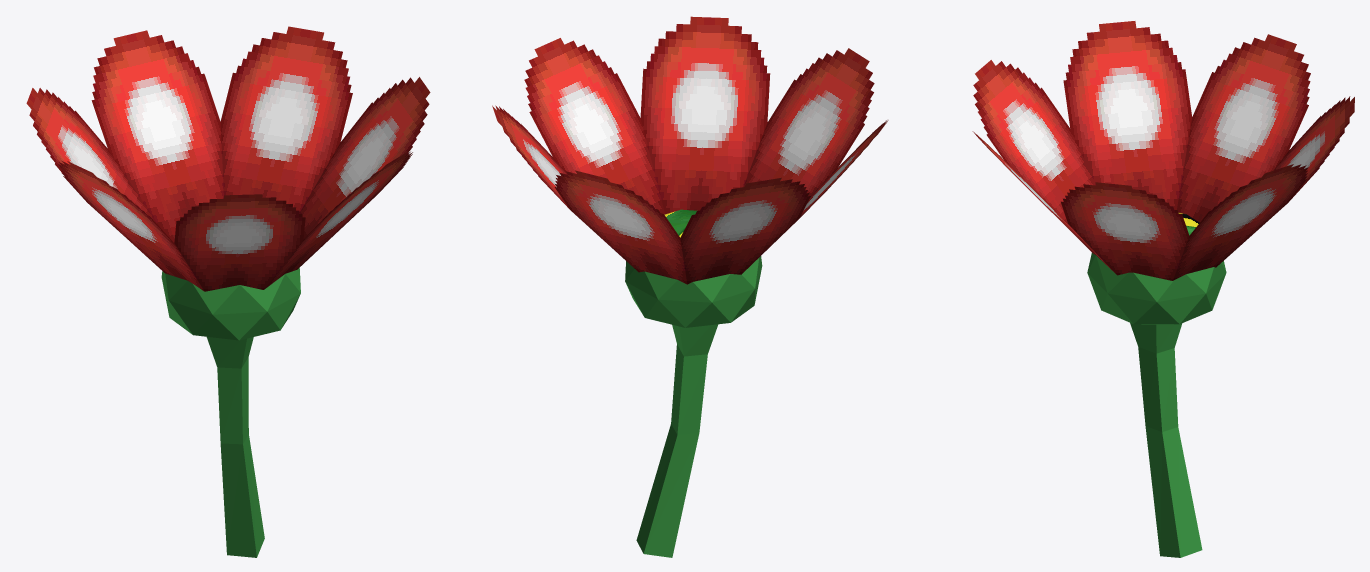
The model's file is p_flower_close.glb.
3 renders of one model, left to right at view 1: azimuth 30°, elevation 25°; view 2: azimuth 150°, elevation 25°; view 3: azimuth 270°, elevation 25°, orthographic. The views are drawn at different scales.
Parts seen in each view (by area): view 1: p_flower_close; view 2: p_flower_close; view 3: p_flower_close.
Boxes of the visible parts, box(x1,y1,x2,y2) form: p_flower_close: box(26, 26, 430, 557); p_flower_close: box(492, 16, 888, 557); p_flower_close: box(972, 21, 1354, 557).
Size of the model in its own units: 7.26 by 8.33 by 7.1.
Materials: 2 (2 with a texture image).
